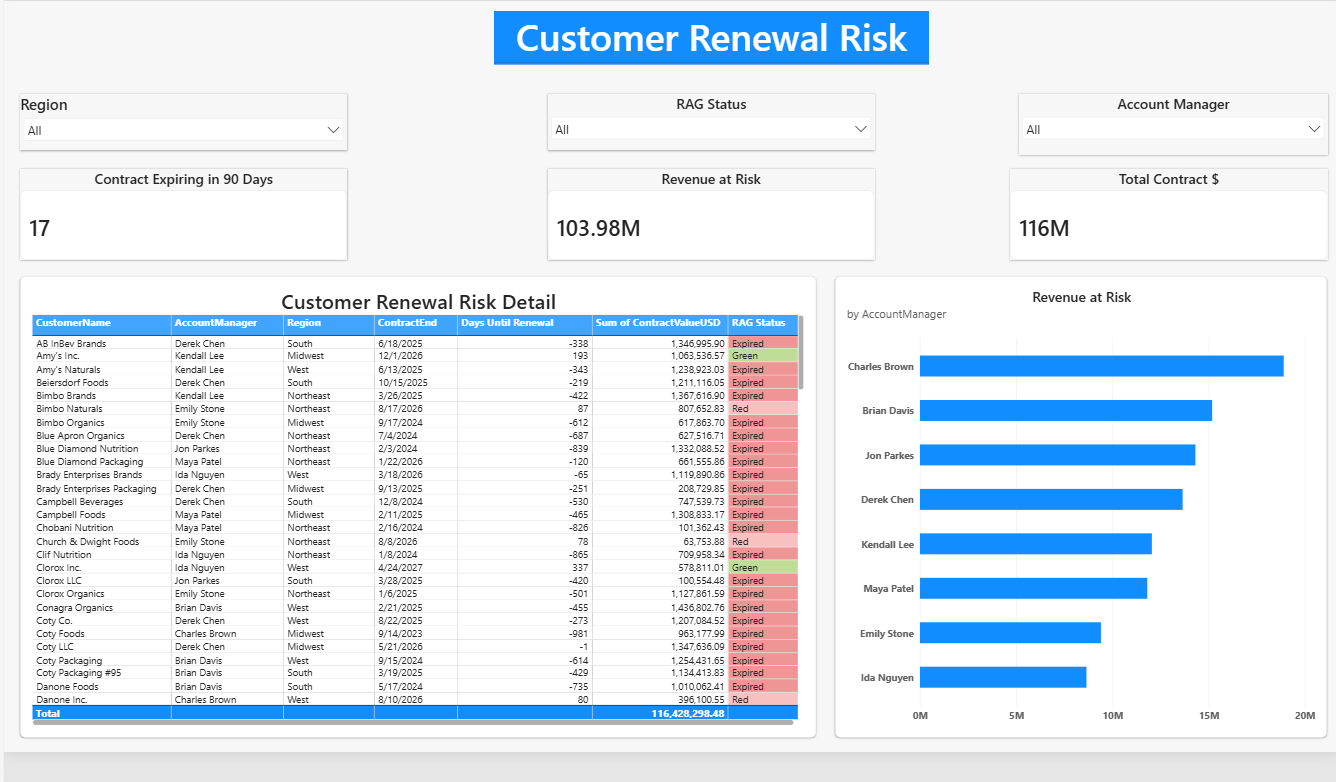

What the dashboard file says about the page in this screenshot:
{"tool":"powerbi","page":{"name":"Renewal Risk","canvas":[1920,1080],"ordinal":2},"visuals":[{"type":"cardVisual","title":"Contract Expiring in 90 Days","fields":{"Data":["_Measures.Contracts Expiring 90 Days"]},"box":[24.2,240.4,470.2,131.5],"z":0},{"type":"cardVisual","title":"Revenue at Risk","fields":{"Data":["_Measures.Revenue at Risk"]},"box":[781.6,240.4,470.2,131.5],"z":1000},{"type":"cardVisual","title":"Total Contract $","fields":{"Data":["_Measures.Total Contract Value"]},"box":[1446.8,240.4,456.6,131.5],"z":2000},{"type":"slicer","title":"Region","fields":{"Values":["dim_Customers.Region"]},"box":[24.2,133,470.2,81.6],"z":3000},{"type":"slicer","title":"Account Manager","fields":{"Values":["dim_Customers.AccountManager"]},"box":[1458.9,133,444.5,87.7],"z":4000},{"type":"slicer","title":"RAG Status","fields":{"Values":["Contracts.RAG Status"]},"box":[781.6,133,470.2,81.6],"z":5000},{"type":"tableEx","title":"Customer Renewal Risk Detail","fields":{"Values":["dim_Customers.CustomerName","dim_Customers.AccountManager","dim_Customers.Region","Contracts.ContractEnd","Contracts.Days Until Renewal","Sum(Contracts.ContractValueUSD)","Contracts.RAG Status"]},"box":[24.2,396.1,1144.4,663.7],"z":6000},{"type":"barChart","fields":{"Category":["dim_Customers.AccountManager"],"Y":["_Measures.Revenue at Risk"]},"box":[1195.8,396.1,707.5,663.7],"z":7000},{"type":"shape","title":"Customer Renewal Risk","box":[704.5,13.6,625.9,77.1],"z":8000}]}

Visuals, with their boxes on the page's 1920x1080 design canvas (x1, y1, x2, y2). These are canvas units, not pixel positions in the 1336x782 screenshot, which may show the page scaled, cropped or inside an application window:
"Contract Expiring in 90 Days" cardVisual: 24, 240, 494, 372
"Revenue at Risk" cardVisual: 782, 240, 1252, 372
"Total Contract $" cardVisual: 1447, 240, 1903, 372
"Region" slicer: 24, 133, 494, 215
"Account Manager" slicer: 1459, 133, 1903, 221
"RAG Status" slicer: 782, 133, 1252, 215
"Customer Renewal Risk Detail" tableEx: 24, 396, 1169, 1060
barChart - dim_Customers.AccountManager x _Measures.Revenue at Risk: 1196, 396, 1903, 1060
"Customer Renewal Risk" shape: 704, 14, 1330, 91
